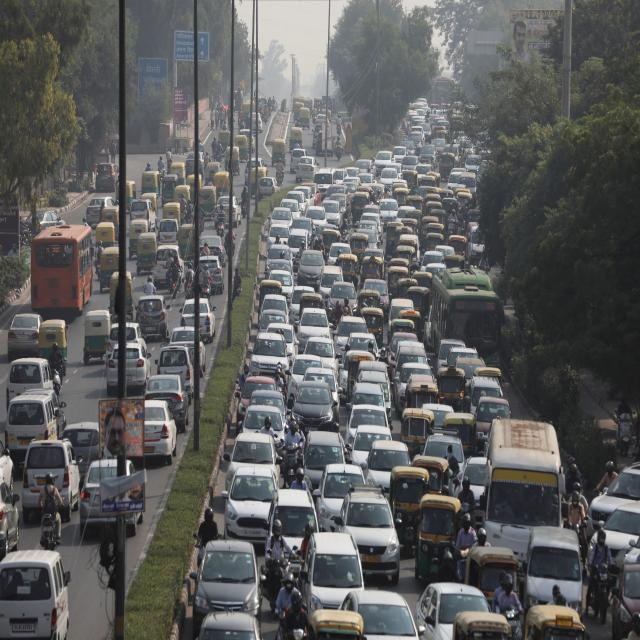autorickshaw: (415, 495, 460, 581), (390, 467, 429, 557), (465, 546, 519, 602), (400, 409, 434, 458), (84, 309, 111, 364), (438, 366, 465, 412), (39, 321, 68, 362), (136, 232, 158, 276), (361, 308, 384, 349), (406, 287, 430, 324), (100, 248, 119, 292), (338, 253, 359, 292), (129, 219, 149, 259), (388, 266, 409, 300), (101, 206, 119, 240), (352, 191, 370, 225), (350, 232, 369, 264), (385, 221, 401, 259), (141, 171, 160, 202), (361, 257, 382, 283), (271, 139, 286, 167), (289, 127, 302, 152), (235, 135, 248, 159)
bus: (480, 418, 565, 562), (431, 268, 504, 366), (30, 225, 94, 313)
car: (192, 540, 264, 639), (335, 486, 400, 585), (0, 549, 70, 639), (300, 532, 364, 617), (524, 527, 582, 613), (21, 439, 80, 523), (222, 467, 278, 544), (415, 583, 489, 640), (341, 591, 419, 640), (588, 465, 640, 536), (5, 392, 58, 459), (314, 463, 364, 532), (225, 433, 280, 491), (269, 489, 319, 549), (145, 375, 190, 433), (6, 358, 54, 411), (292, 381, 339, 435), (304, 431, 344, 491), (365, 441, 410, 493), (236, 377, 276, 431), (145, 401, 178, 465), (612, 564, 640, 639), (395, 364, 431, 418), (158, 345, 194, 396), (250, 332, 290, 377), (345, 405, 389, 444), (285, 354, 324, 398), (8, 313, 42, 362), (241, 405, 286, 442), (350, 426, 391, 465), (304, 367, 343, 407), (475, 396, 511, 439), (295, 308, 330, 352), (136, 296, 169, 341), (332, 315, 368, 356), (325, 280, 358, 322), (304, 338, 341, 375), (153, 244, 184, 287), (266, 322, 299, 360), (317, 266, 343, 309), (295, 250, 325, 287), (284, 228, 311, 269), (286, 286, 315, 324), (126, 343, 150, 386), (311, 167, 339, 203), (199, 255, 224, 294), (200, 233, 226, 267), (130, 199, 156, 232), (214, 193, 241, 224), (265, 244, 292, 274), (264, 224, 290, 251), (267, 206, 294, 232), (259, 309, 289, 332), (95, 163, 118, 192), (295, 156, 320, 182), (321, 199, 344, 227), (328, 242, 351, 266), (373, 151, 396, 175), (378, 198, 401, 222), (258, 177, 280, 202), (330, 193, 351, 219), (419, 144, 438, 169), (290, 148, 307, 174), (379, 168, 399, 188)
motorcycle: (38, 474, 62, 549), (242, 187, 248, 218)
